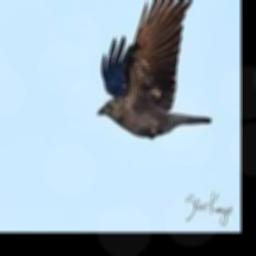Crow: (98, 0, 211, 138)
